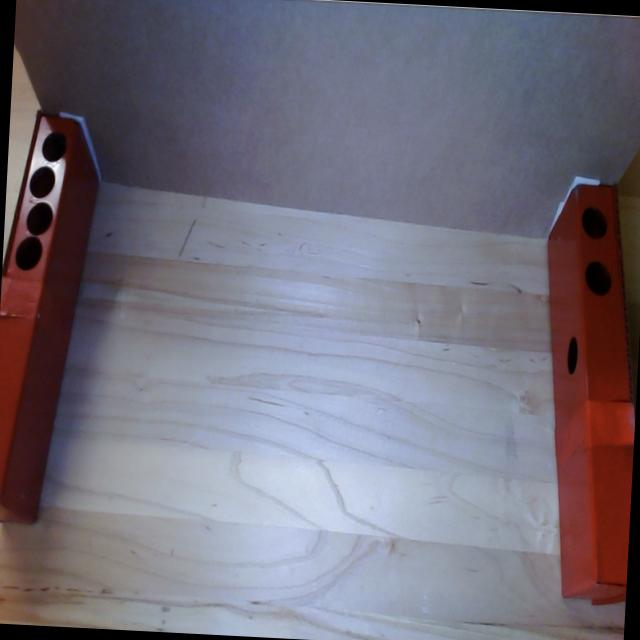Hole: (38, 123, 72, 165), (11, 236, 46, 274), (582, 257, 614, 298), (26, 169, 60, 201), (580, 200, 606, 241), (25, 202, 55, 234), (564, 332, 582, 382)
